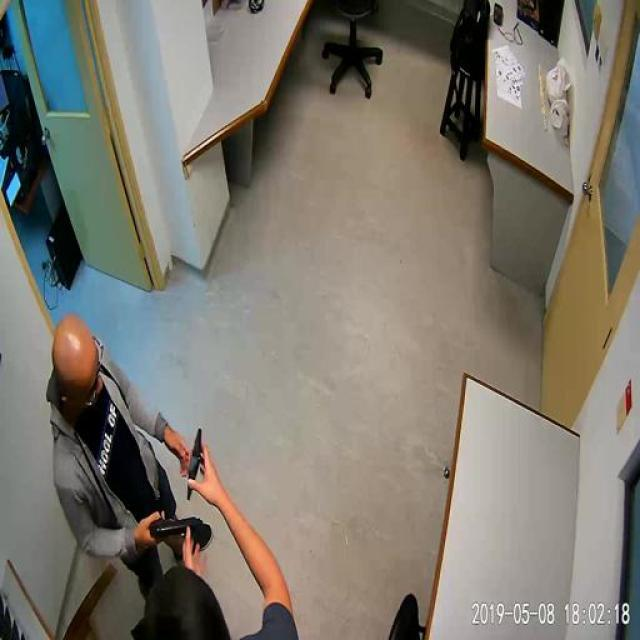Gun: (144, 508, 211, 552)
